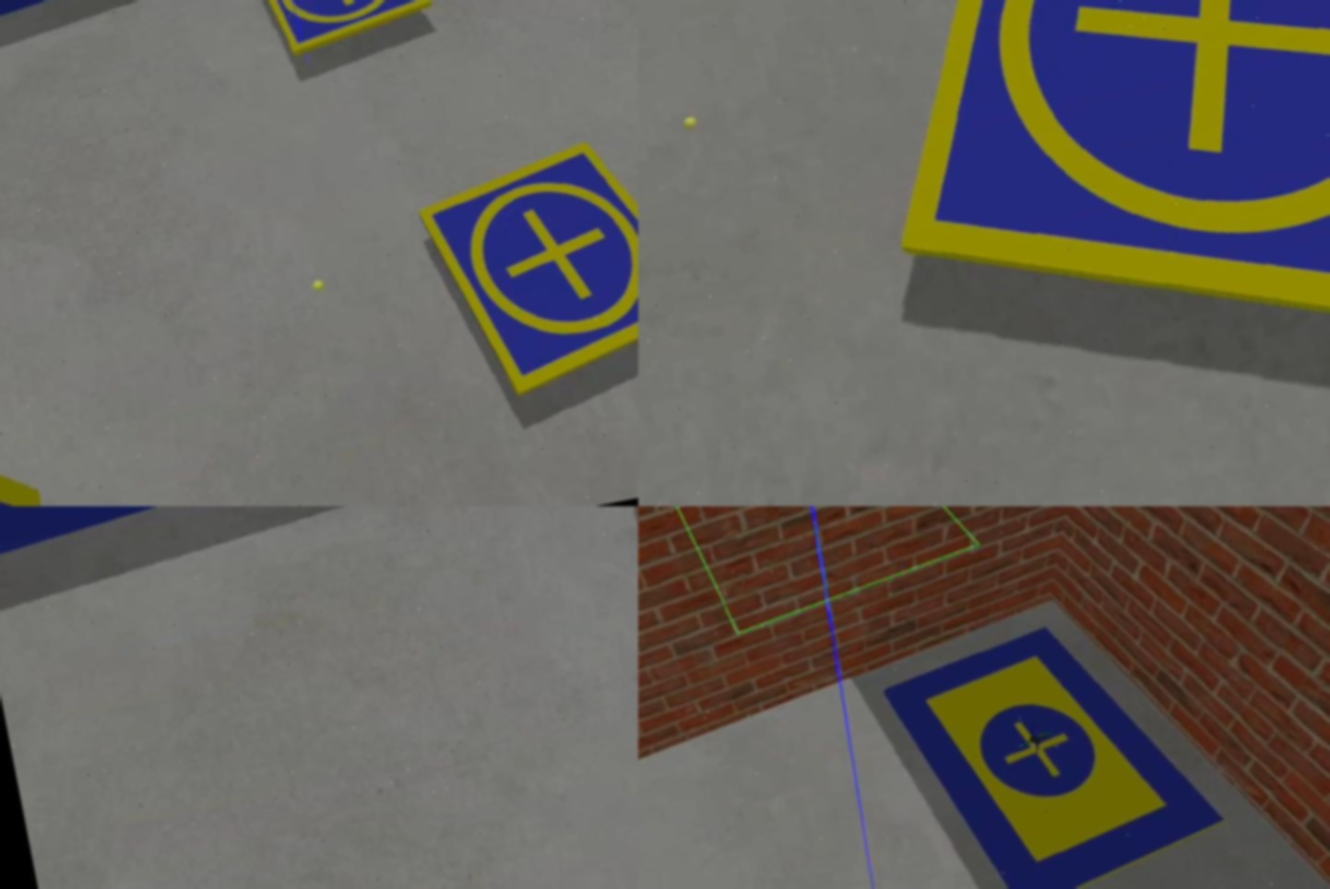large_base: (876, 599, 1237, 889)
small_base: (824, 1, 1330, 449), (410, 120, 639, 406), (247, 1, 438, 63)
